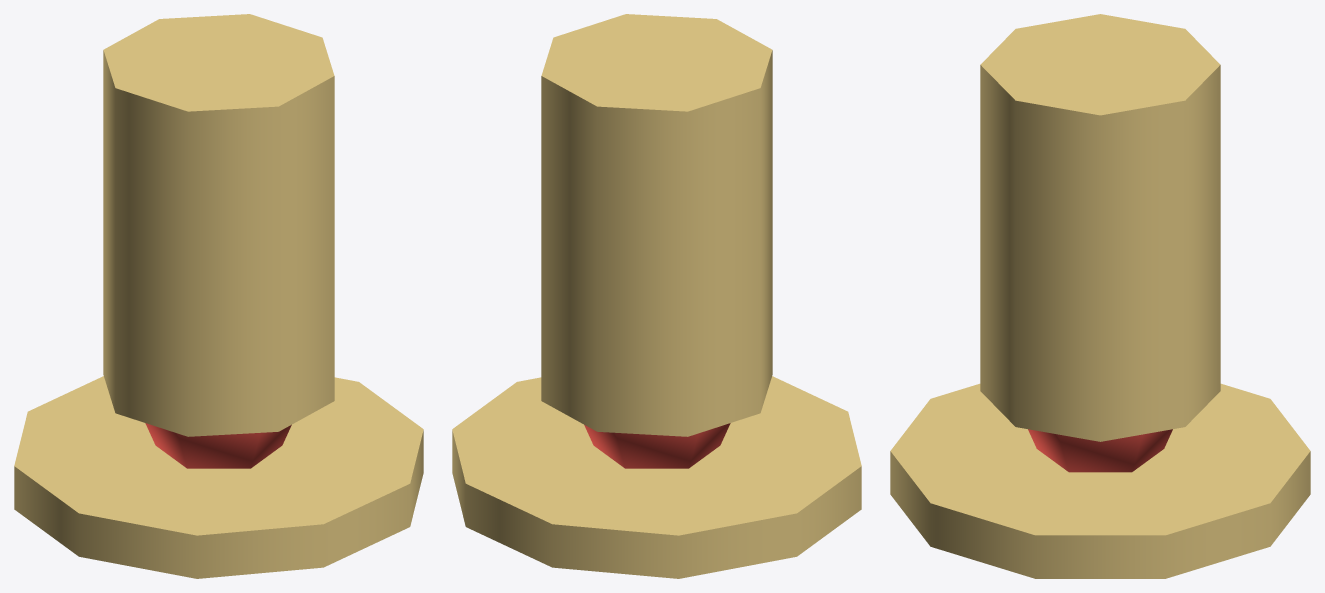
Rendered from sprinkler_head.glb.
3 views of the same model, side by side, from view 1: azimuth 30°, elevation 25°; view 2: azimuth 150°, elevation 25°; view 3: azimuth 270°, elevation 25° (orthographic).
Visible parts, largest first — view 1: sprinkler_head; view 2: sprinkler_head; view 3: sprinkler_head.
Part boxes in pixels (box(x1,y1,x2,y2)): sprinkler_head: box(14, 14, 423, 578); sprinkler_head: box(452, 14, 861, 578); sprinkler_head: box(890, 14, 1310, 578).
Bounding box in the file's own units: 0.0666 × 0.079 × 0.07.
